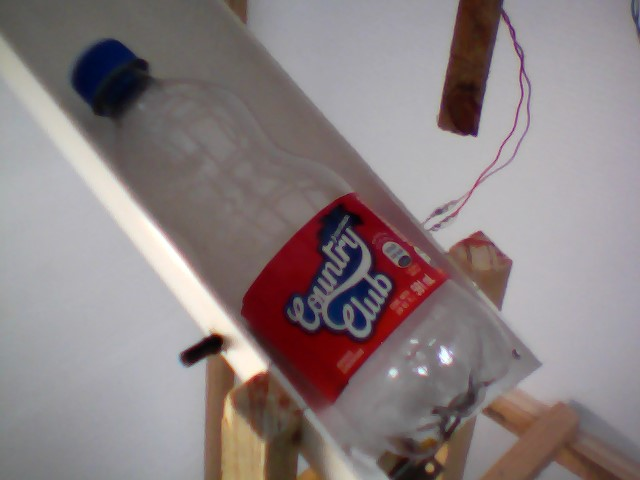plastico: (70, 32, 517, 480)
